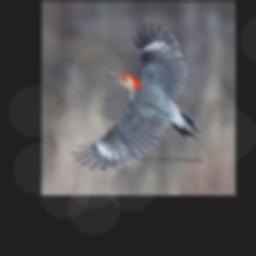Woodpecker: (71, 21, 201, 172)
